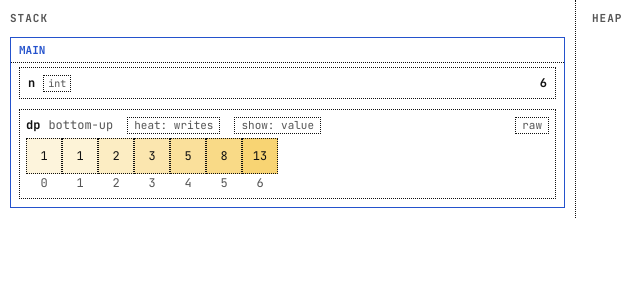
Test: MemoryView DP integration › clicking a written DP cell explains the recurrence that produced it
Click the text with class "dp-cell" in the row of "13". click: (116, 156)
box: top-left (98, 138), bottom-right (134, 174)
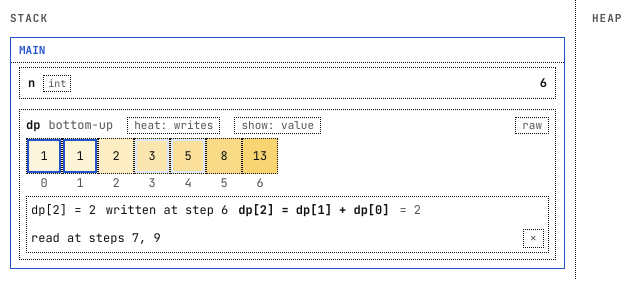
Result: the element with class "dp-detail" shows "dp[2] = dp[1] + dp[0]" at top-left (26, 196), bottom-right (549, 253)
Result: the element with class "dp-detail" shows "= 2" at top-left (400, 202), bottom-right (421, 218)
